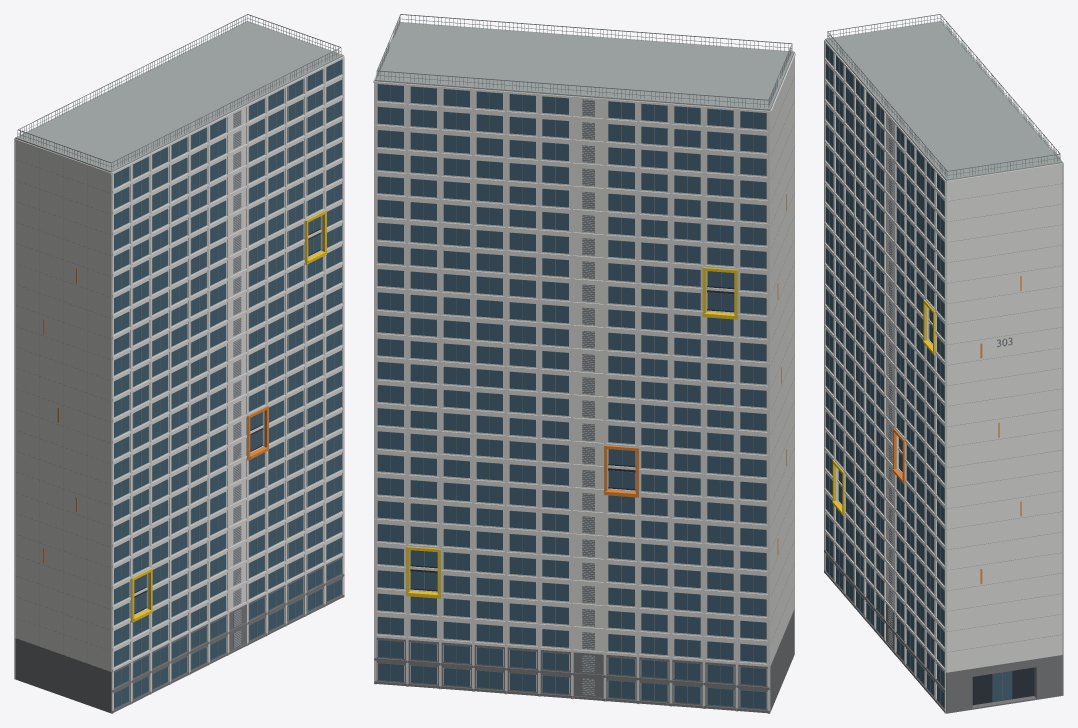
The model's file is bespoke-songpa-helio-city-303.glb.
The picture shows the model from 3 angles, left to right: view 1: azimuth 30°, elevation 25°; view 2: azimuth 150°, elevation 25°; view 3: azimuth 270°, elevation 25°; orthographic projection. The views are drawn at different scales.
Visible parts, largest first — view 1: Helio303_editable_Helio303_white_slab_frames, Helio303_editable_Helio303_dark_blue_grey_glazing, Helio303_editable_Helio303_low_roof_deck, Helio303_editable_Helio303_grey_service_grille, Helio303_editable_Helio303_dark_grey_twofloor_base, Helio303_editable_Helio303_blankwall_grey_panels, Helio303_editable_Helio303_yellow_projecting_rectangular_fra, Helio303_editable_Helio303_orange_narrow_accent; view 2: Helio303_editable_Helio303_dark_blue_grey_glazing, Helio303_editable_Helio303_white_slab_frames, Helio303_editable_Helio303_low_roof_deck, Helio303_editable_Helio303_grey_service_grille, Helio303_editable_Helio303_dark_grey_twofloor_base, Helio303_editable_Helio303_blankwall_grey_panels, Helio303_editable_Helio303_yellow_projecting_rectangular_fra, Helio303_editable_Helio303_orange_narrow_accent; view 3: Helio303_editable_Helio303_white_slab_frames, Helio303_editable_Helio303_dark_blue_grey_glazing, Helio303_editable_Helio303_low_roof_deck, Helio303_editable_Helio303_grey_service_grille, Helio303_editable_Helio303_dark_grey_twofloor_base, Helio303_editable_Helio303_deep_shaded_frame_recess, Helio303_editable_Helio303_blankwall_grey_panels, Helio303_editable_Helio303_yellow_projecting_rectangular_fra, Helio303_editable_Helio303_orange_narrow_accent.
Boxes of the visible parts, <box> form: Helio303_editable_Helio303_white_slab_frames: <box>14,55,344,713</box>; Helio303_editable_Helio303_dark_blue_grey_glazing: <box>113,59,341,708</box>; Helio303_editable_Helio303_low_roof_deck: <box>15,21,343,172</box>; Helio303_editable_Helio303_grey_service_grille: <box>15,14,341,704</box>; Helio303_editable_Helio303_dark_grey_twofloor_base: <box>15,556,344,713</box>; Helio303_editable_Helio303_blankwall_grey_panels: <box>39,110,241,663</box>; Helio303_editable_Helio303_yellow_projecting_rectangular_fra: <box>131,210,326,622</box>; Helio303_editable_Helio303_orange_narrow_accent: <box>43,268,268,563</box>; Helio303_editable_Helio303_dark_blue_grey_glazing: <box>377,84,766,708</box>; Helio303_editable_Helio303_white_slab_frames: <box>373,23,795,713</box>; Helio303_editable_Helio303_low_roof_deck: <box>374,22,794,110</box>; Helio303_editable_Helio303_grey_service_grille: <box>376,14,794,707</box>; Helio303_editable_Helio303_dark_grey_twofloor_base: <box>374,610,794,713</box>; Helio303_editable_Helio303_blankwall_grey_panels: <box>582,100,594,695</box>; Helio303_editable_Helio303_yellow_projecting_rectangular_fra: <box>406,267,737,598</box>; Helio303_editable_Helio303_orange_narrow_accent: <box>604,194,786,554</box>; Helio303_editable_Helio303_white_slab_frames: <box>824,22,1063,713</box>; Helio303_editable_Helio303_dark_blue_grey_glazing: <box>825,44,1012,707</box>; Helio303_editable_Helio303_low_roof_deck: <box>825,21,1062,180</box>; Helio303_editable_Helio303_grey_service_grille: <box>827,14,1062,703</box>; Helio303_editable_Helio303_dark_grey_twofloor_base: <box>824,533,1062,713</box>; Helio303_editable_Helio303_deep_shaded_frame_recess: <box>838,319,1034,705</box>; Helio303_editable_Helio303_blankwall_grey_panels: <box>888,117,892,645</box>; Helio303_editable_Helio303_yellow_projecting_rectangular_fra: <box>832,299,936,515</box>; Helio303_editable_Helio303_orange_narrow_accent: <box>893,276,1021,583</box>.
Size of the model in its own units: 46.73 by 73.8 by 29.61.
